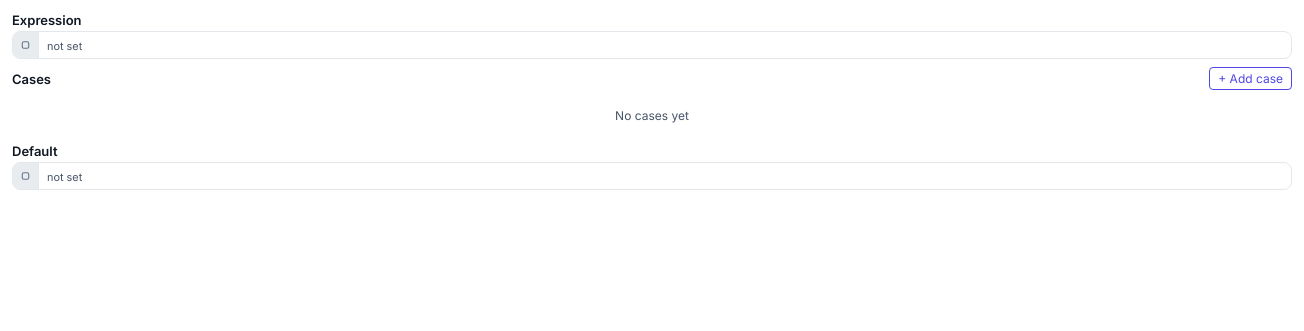
Scenario: SwitchEditor › adds a case with the documented default shape and opens it
This screenshot has width=1304, height=331.
Click the button "+ Add case" at x=1251, y=78, box [1209,67,1292,90]
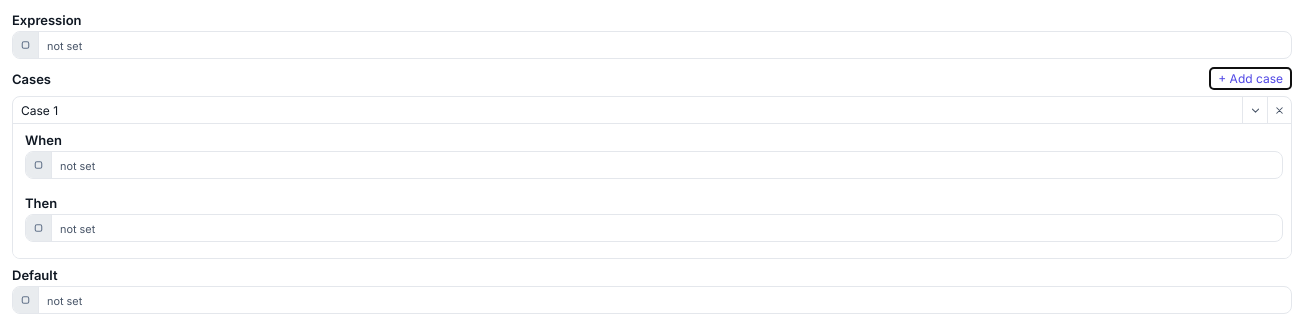
Expected: the text "No cases yet" is gone
Expected: the text "Case 1" is shown, [21,102,58,118]
Expected: the text "When" is shown, [25,132,62,148]
